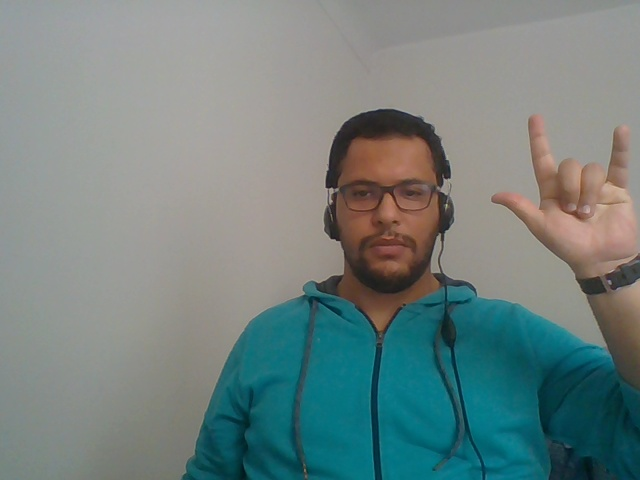iloveyou: (469, 98, 640, 345)
